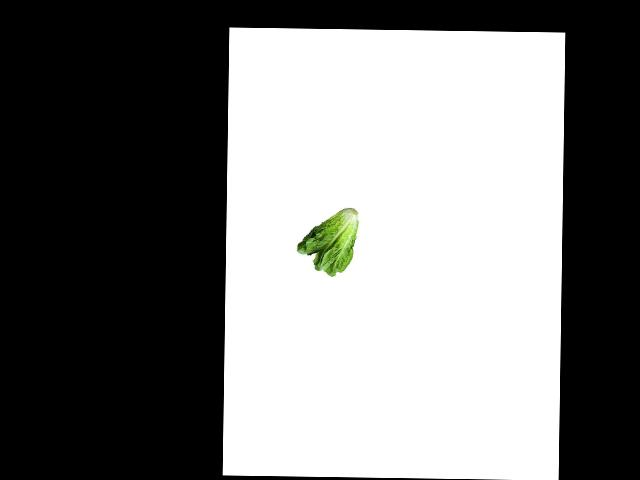lettuce: (292, 209, 362, 276)
